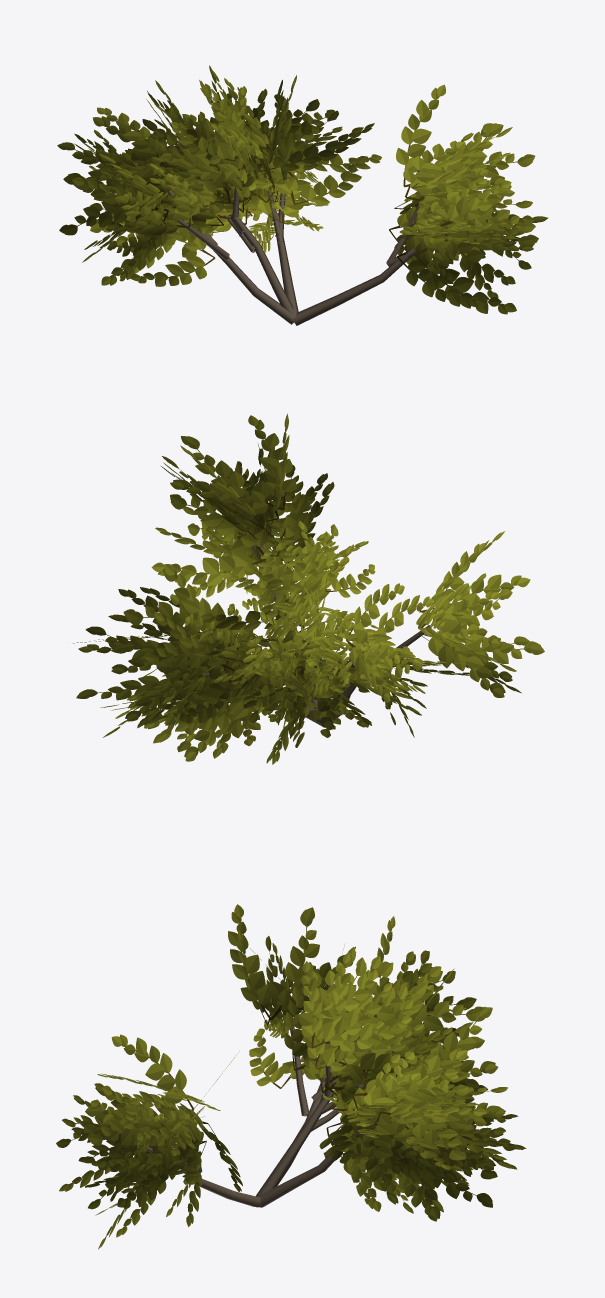
File: bush_3_burnt1.glb
The picture shows the model from 3 angles, top to bottom: view 1: azimuth 30°, elevation 25°; view 2: azimuth 150°, elevation 25°; view 3: azimuth 270°, elevation 25°; orthographic projection. The views are drawn at different scales.
Parts seen in each view (by area): view 1: bush_3_burnt1; view 2: bush_3_burnt1; view 3: bush_3_burnt1.
Boxes of the visible parts, left/top/right/bottom form: bush_3_burnt1: left=57, top=65, right=547, bottom=325; bush_3_burnt1: left=73, top=413, right=544, bottom=764; bush_3_burnt1: left=56, top=904, right=526, bottom=1249.
Size of the model in its own units: 3.03 by 1.63 by 3.02.
Materials: 2 (1 with a texture image).
